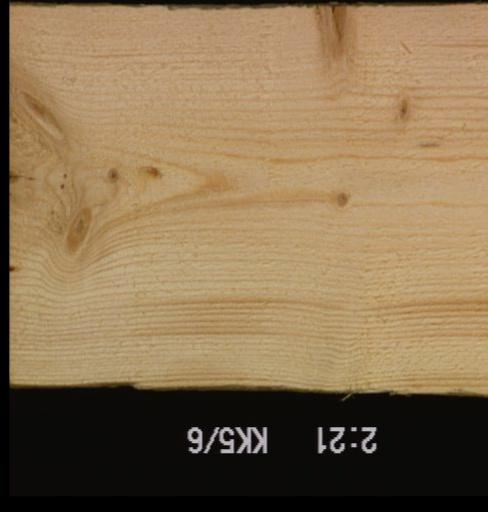small_knot: (390, 94, 414, 127), (102, 164, 123, 190), (330, 187, 351, 211)
split: (10, 167, 70, 192)
wave: (72, 378, 135, 392)
